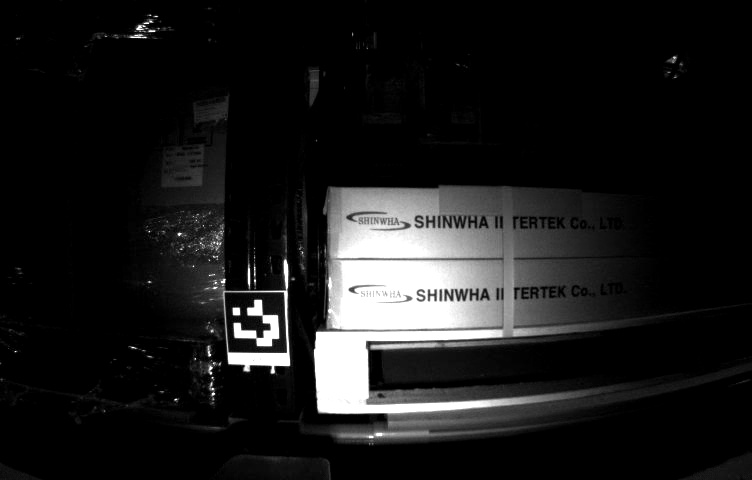True Barcode: (163, 146, 205, 186)
